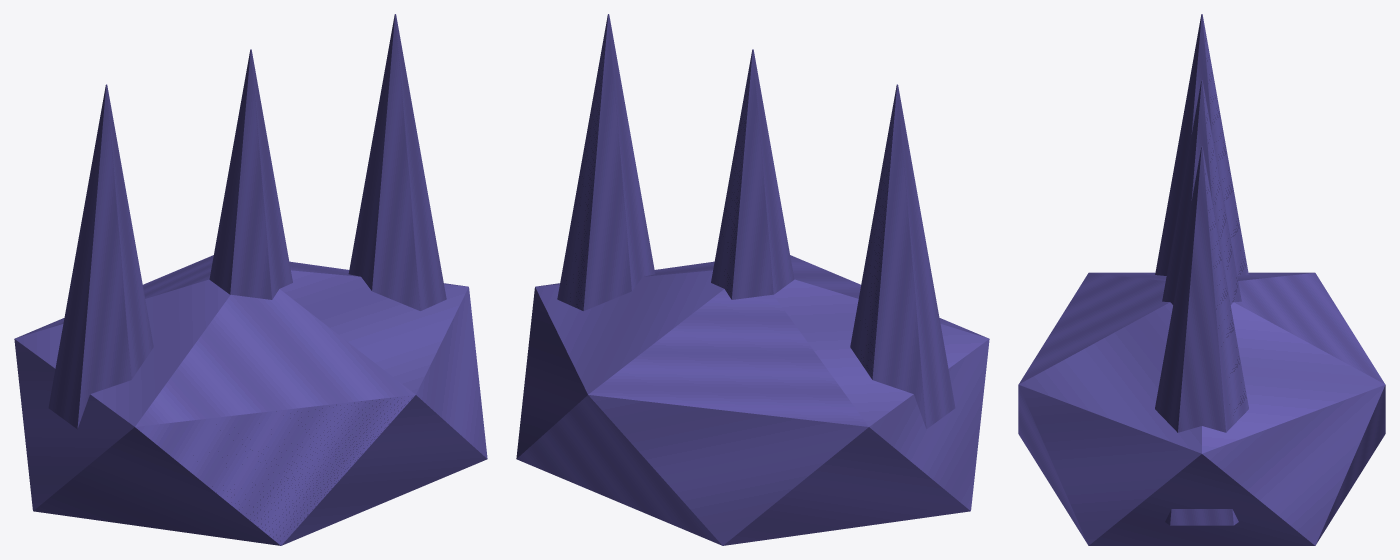
The model's file is king_hunter.glb.
3 views of the same model, side by side, from view 1: azimuth 30°, elevation 25°; view 2: azimuth 150°, elevation 25°; view 3: azimuth 270°, elevation 25° (orthographic). The views are drawn at different scales.
Parts seen in each view (by area): view 1: gear_king_hunter; view 2: gear_king_hunter; view 3: gear_king_hunter.
Boxes of the visible parts, box(x1,y1,x2,y2) form: gear_king_hunter: box(14, 14, 487, 545); gear_king_hunter: box(516, 14, 989, 545); gear_king_hunter: box(1018, 14, 1385, 545).
Size of the model in its own units: 0.483 by 0.51 by 0.3743.
Materials: 1 (1 with a texture image).
